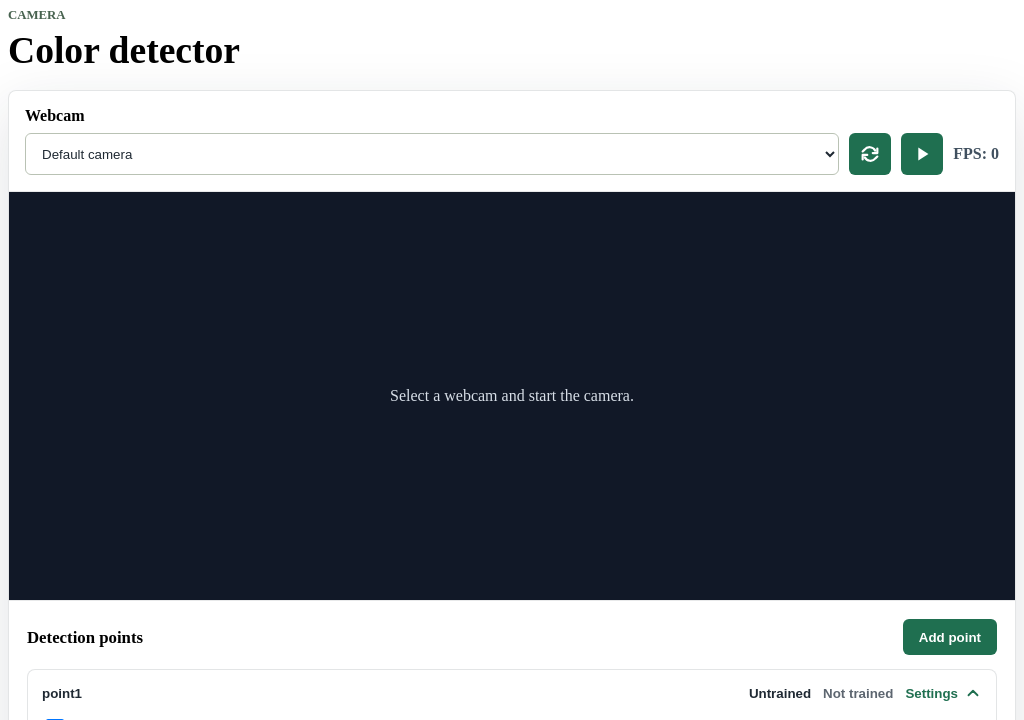
Test case: CameraDetector › opens point settings as an accordion for added points
This screenshot has width=1024, height=720.
Click the button "Add point": (950, 638) [903,620,997,656]
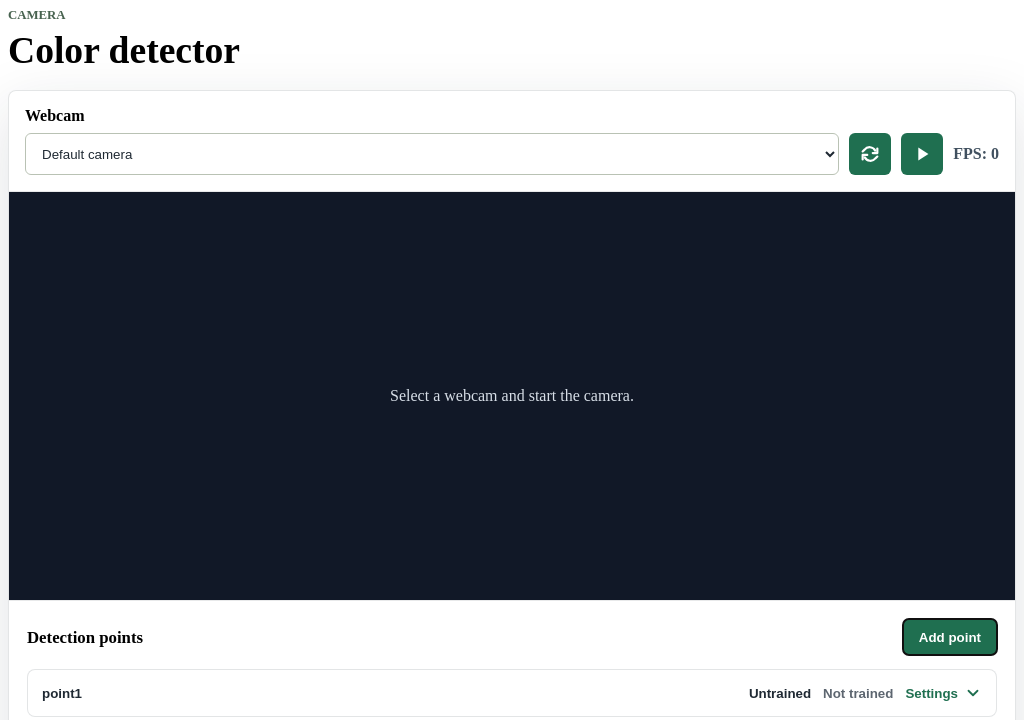
Click the button "point1 Untrained Not trained Settings": (62, 693) [28,670,996,716]
(page scrolled)
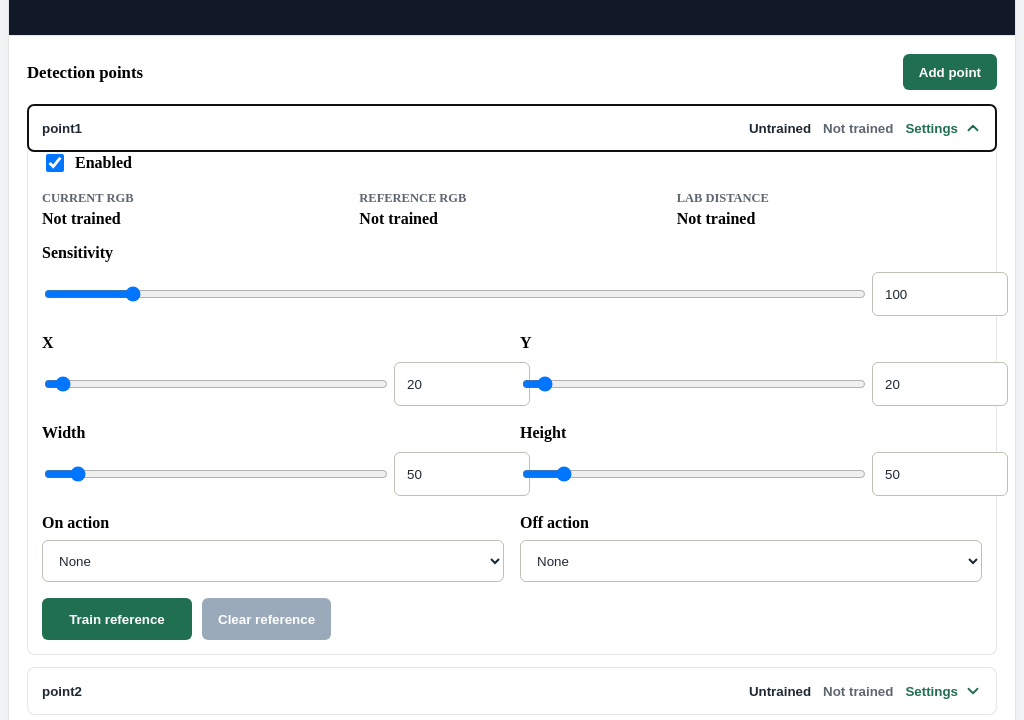
expect the number field named "point1 X value" is shown: met, box [394,362,530,406]
